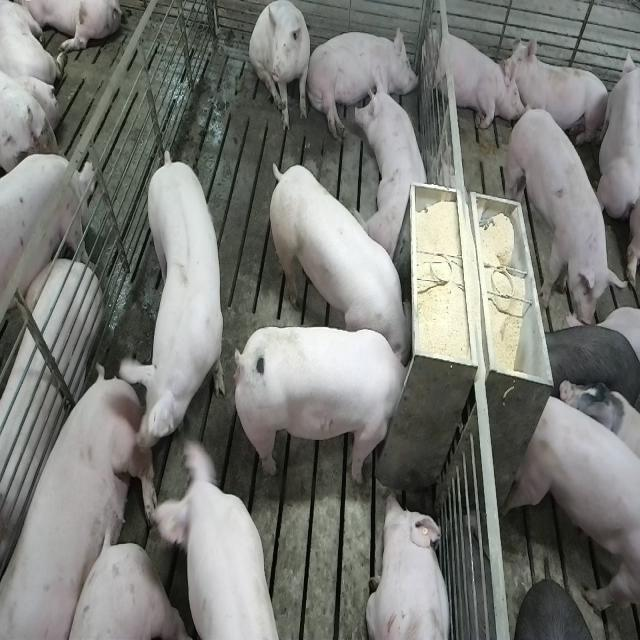Feeding: (264, 160, 412, 362), (240, 324, 418, 484)
Lateral_lying: (4, 362, 159, 636), (0, 254, 102, 592), (306, 24, 418, 140)
Sitting: (250, 1, 312, 134)
Standing: (506, 388, 638, 634), (117, 146, 223, 452), (145, 436, 282, 640), (508, 104, 624, 328), (0, 157, 94, 347), (538, 323, 639, 413)
Sternal_lying: (355, 74, 433, 260), (366, 490, 454, 640), (505, 36, 612, 152), (423, 21, 516, 133)
